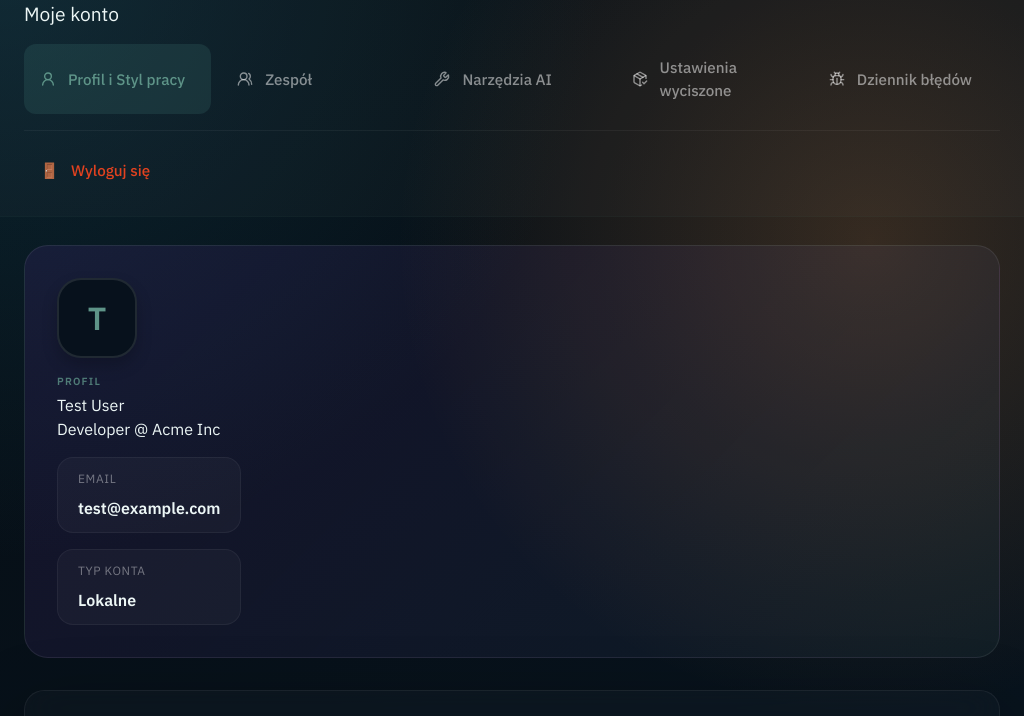
Test: ProfileTab › Tag Manager Section › displays tags with task and meeting counts
Click the button "Narzędzia AI".
click(512, 79)  # box [418,44,606,114]
(page scrolled)
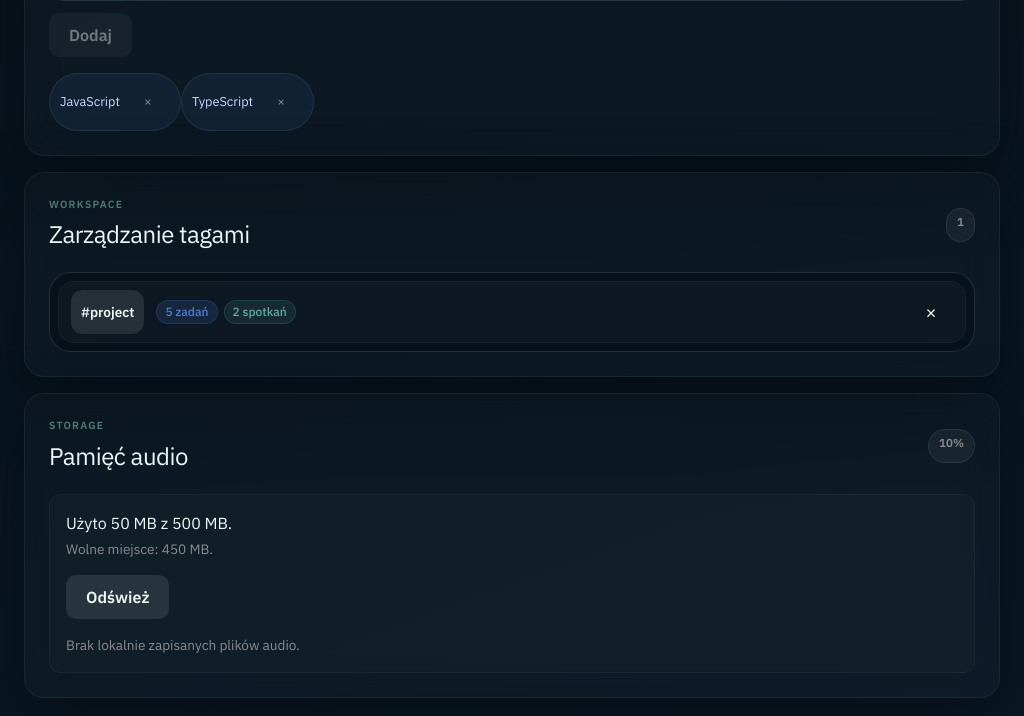
Expected: the button "#project" is shown, [71,290,144,334]
Expected: the text "5 zadań" is shown, [156,300,218,324]
Expected: the text "2 spotkań" is shown, [224,300,296,324]
